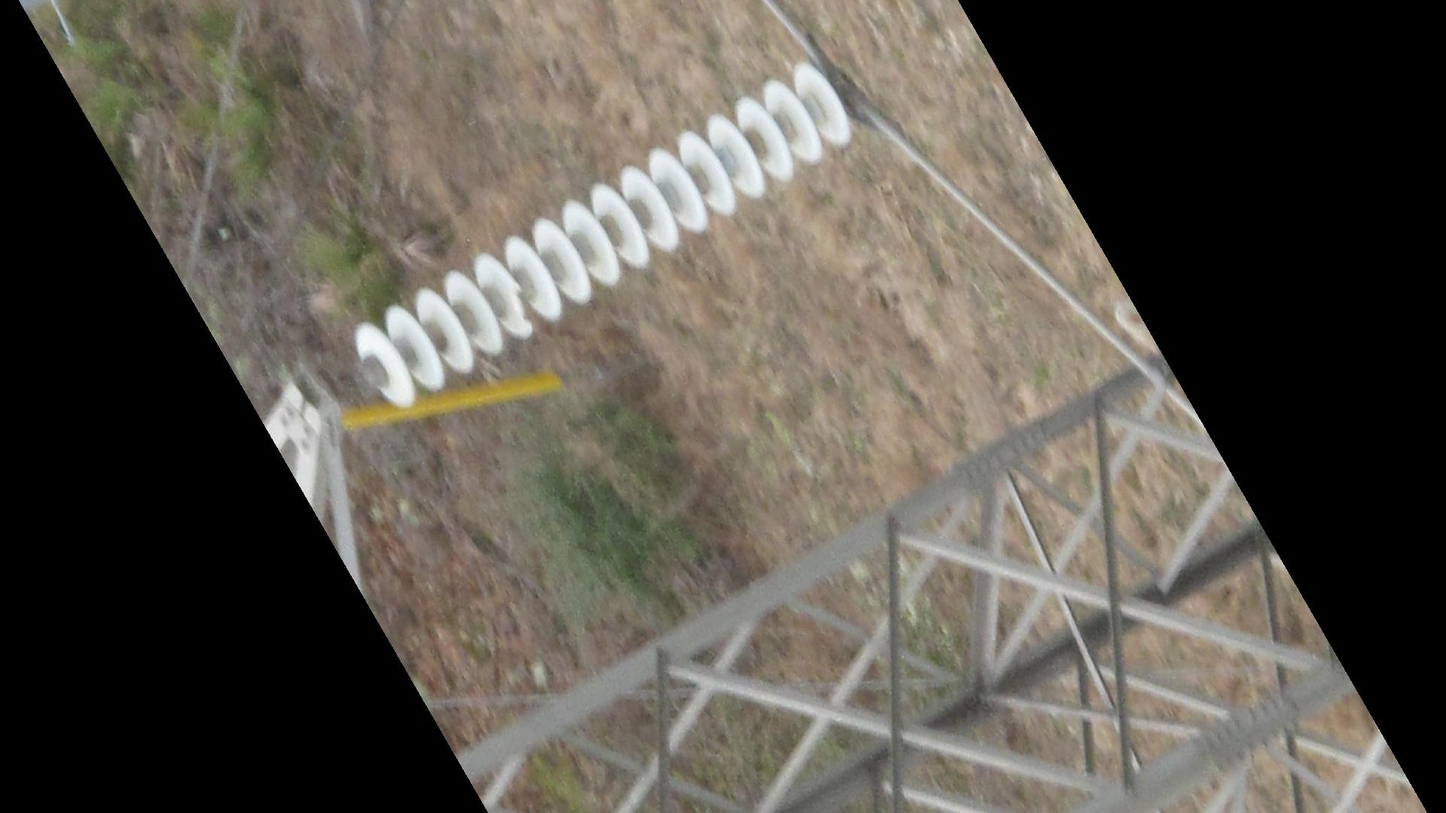insulator: (350, 56, 853, 413)
insulator_breakage: (505, 276, 539, 334)
